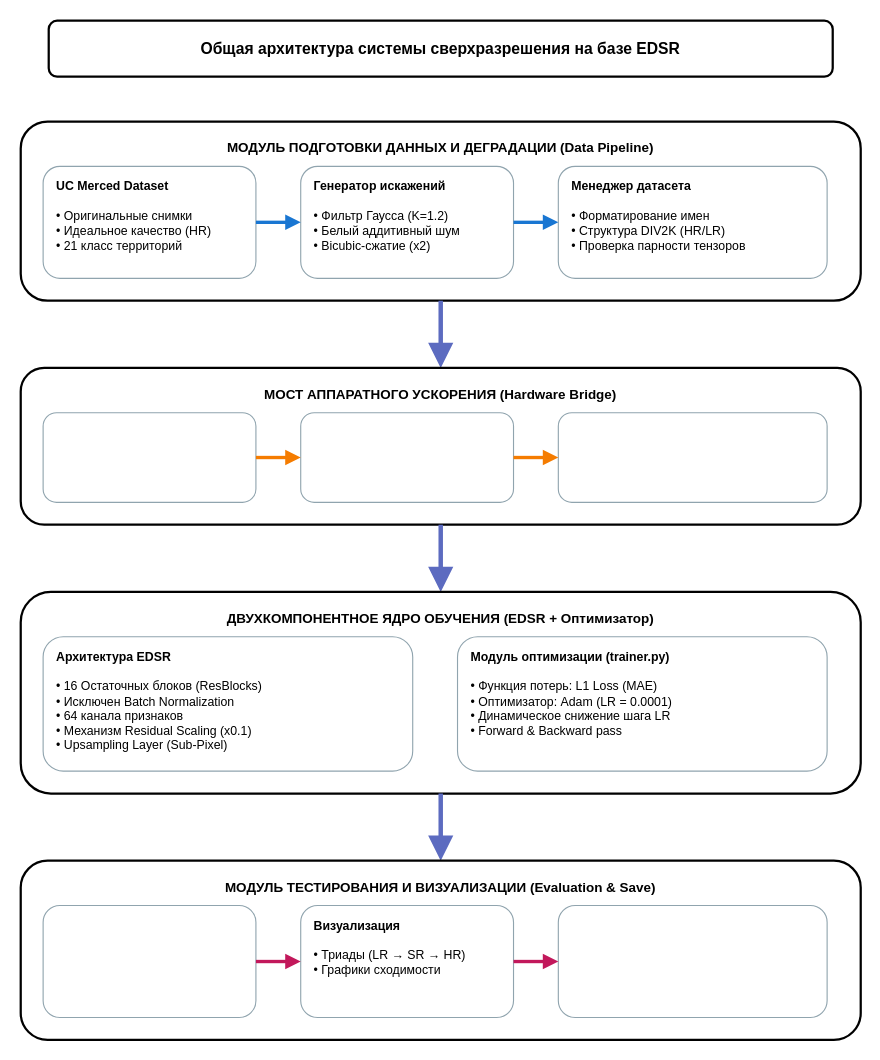
Image size: 880x1060. Some labels were removed from this diagram. Here are the shapes that lost their labels. From the top down, the centre of each, then its label:
At (x=149, y=457): "PyTorch Framework • Инициализация графов • Вычисление градиентов".
At (x=407, y=457): "torch-directml API • Вызов .contiguous() • Трансляция в DirectX 12".
At (x=692, y=457): "AMD Radeon GPU • Аппаратные вычисления • Буфер видеопамяти (8 ГБ)".
At (x=149, y=961): "Оценка качества • Расчет PSNR на тесте • Оценка L1-Loss".
At (x=692, y=961): "Model Registry • Сохранение логов (log.txt) • Сохранение model_best.pt".
